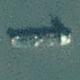ship: (0, 22, 35, 53)
